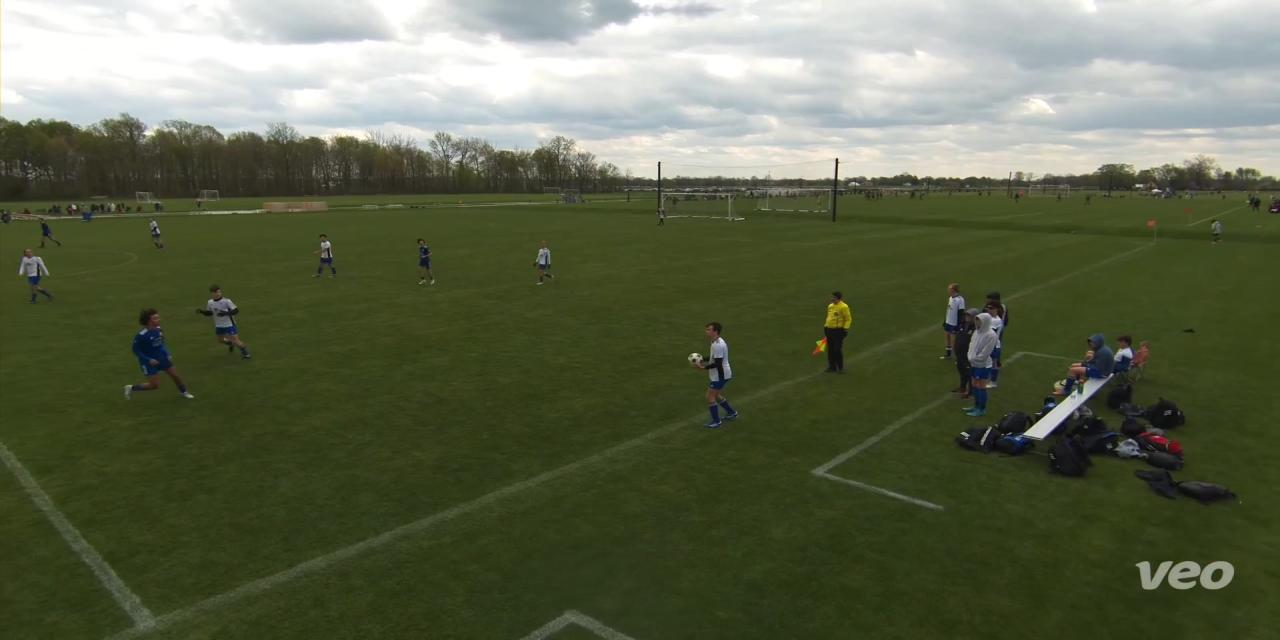sports ball: (657, 187, 754, 225), (680, 348, 709, 374)
